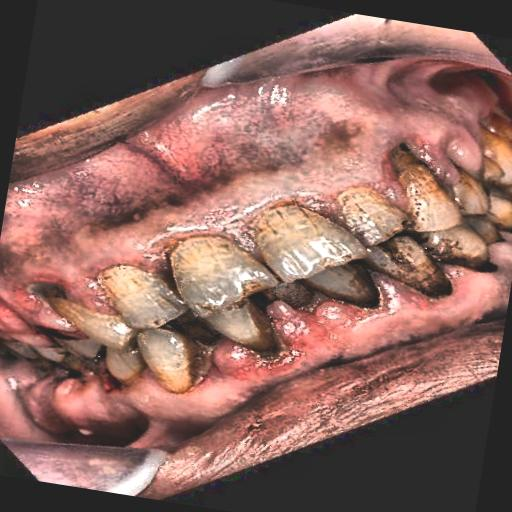Calculus: (10, 238, 312, 462), (286, 81, 512, 354)
